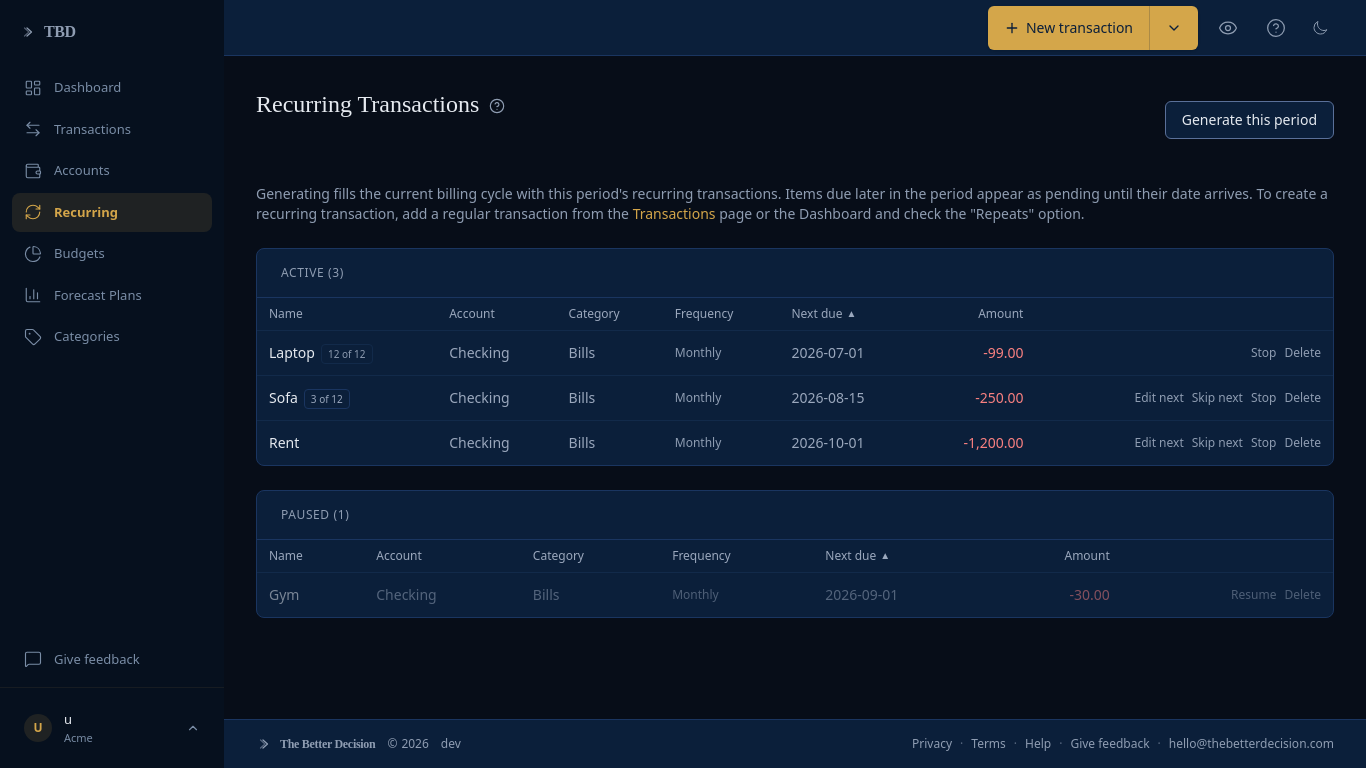
Test: recurring page: skip next (TBD-272) › F2: open-ended copy has description, date and signed amount, no payments line
Click the button with aria-label "Skip next: Rent" at coordinates (1217, 443), box [1192,435,1243,451]
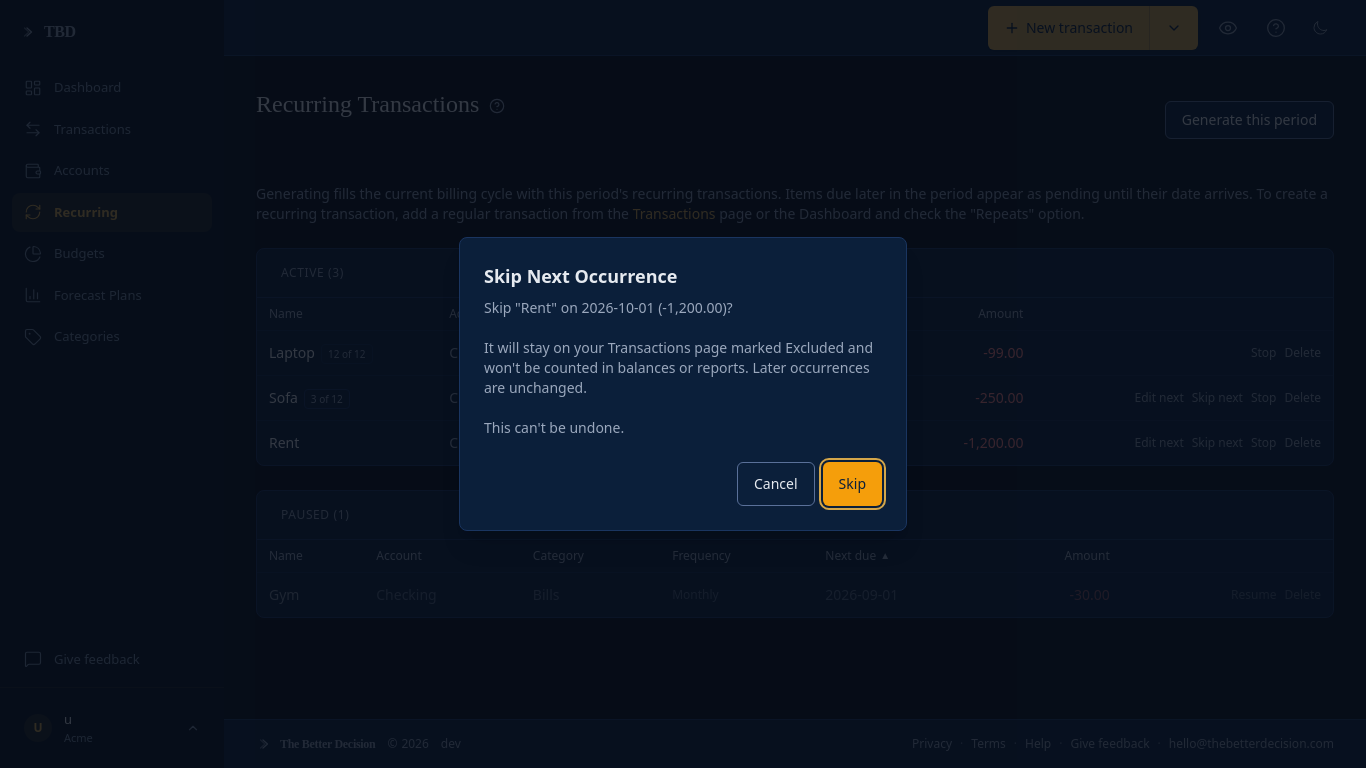
Expected: the heading "Skip Next Occurrence" is shown, [484,264,678,288]
Expected: the dialog shows "It will stay on your Transactions page marked Excluded and won't be counted in balances or reports.", [484,298,873,437]
Expected: the dialog shows "This can't be undone.", [484,298,873,437]
